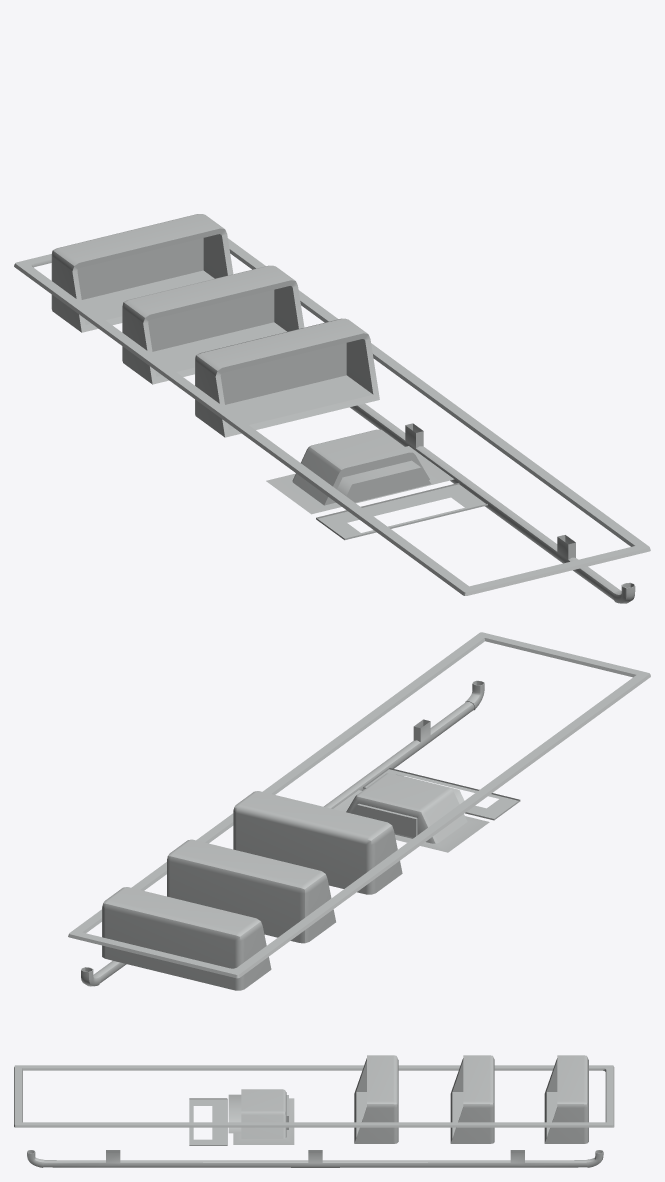
File: MeshFridgeFreezerdoorD1_3_GeomSubset_1.obj
The picture shows the model from 3 angles, top to bottom: view 1: azimuth 30°, elevation 25°; view 2: azimuth 150°, elevation 25°; view 3: azimuth 270°, elevation 25°; orthographic projection. The views are drawn at different scales.
Visible parts, largest first — view 1: MeshFridgeFreezerdoorD1_3_GeomSubset_1; view 2: MeshFridgeFreezerdoorD1_3_GeomSubset_1; view 3: MeshFridgeFreezerdoorD1_3_GeomSubset_1.
Part boxes in pixels (bbox=[...]): MeshFridgeFreezerdoorD1_3_GeomSubset_1: bbox=[14, 214, 650, 603]; MeshFridgeFreezerdoorD1_3_GeomSubset_1: bbox=[68, 632, 650, 990]; MeshFridgeFreezerdoorD1_3_GeomSubset_1: bbox=[14, 1055, 614, 1167].
Bounding box in the file's own units: 0.5028 × 0.5367 × 1.92.
